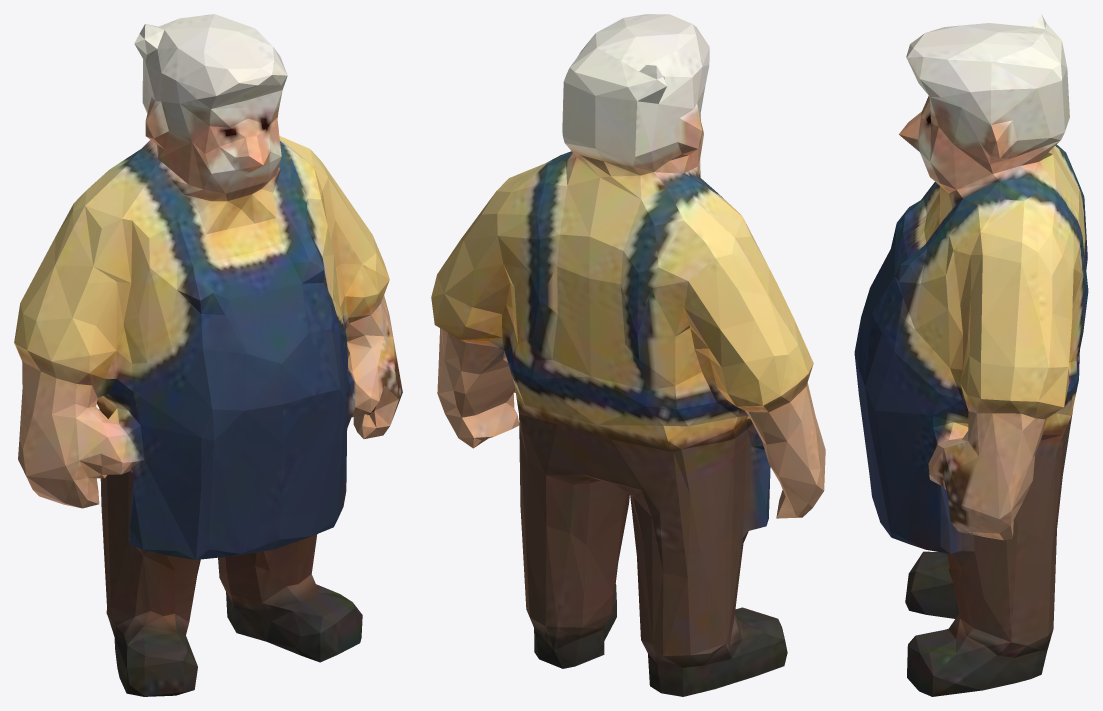
The model's file is habitant-loin.glb.
The picture shows the model from 3 angles, left to right: view 1: azimuth 30°, elevation 25°; view 2: azimuth 150°, elevation 25°; view 3: azimuth 270°, elevation 25°; orthographic projection. The views are drawn at different scales.
Visible parts, largest first — view 1: habitant; view 2: habitant; view 3: habitant.
Boxes of the visible parts, x1,y1,x2,y2 form: habitant: (14,14,402,696); habitant: (431,14,825,696); habitant: (854,14,1088,696).
Bounding box in the file's own units: 0.6372 × 1 × 0.3479.
1 material, 1 textured.
